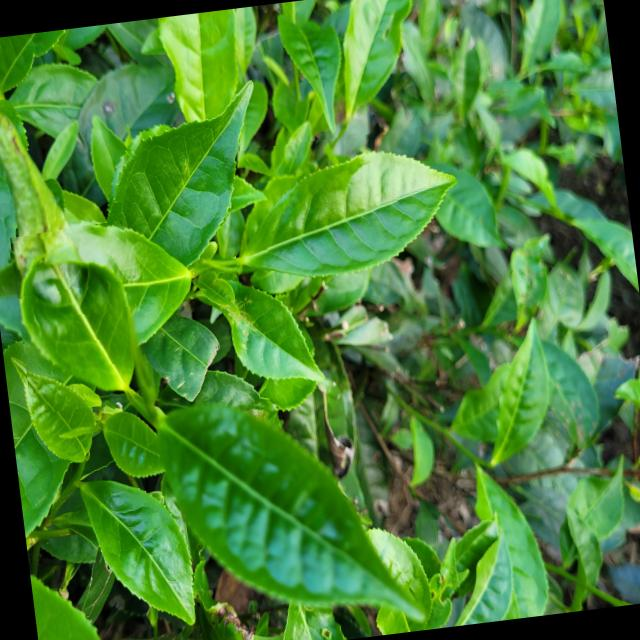Catagory A(1-2 days): (222, 122, 474, 303)
Category B(2-4 days): (9, 219, 150, 414)
